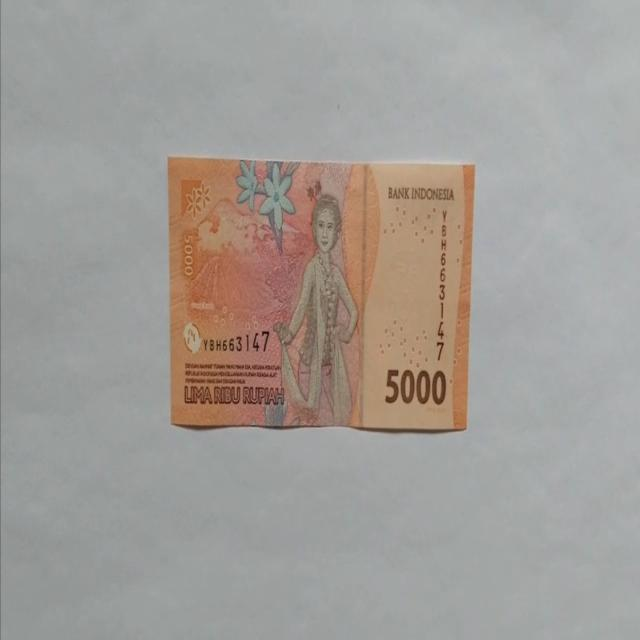lima ribu rupiah: (167, 156, 475, 432), (272, 192, 360, 427)
